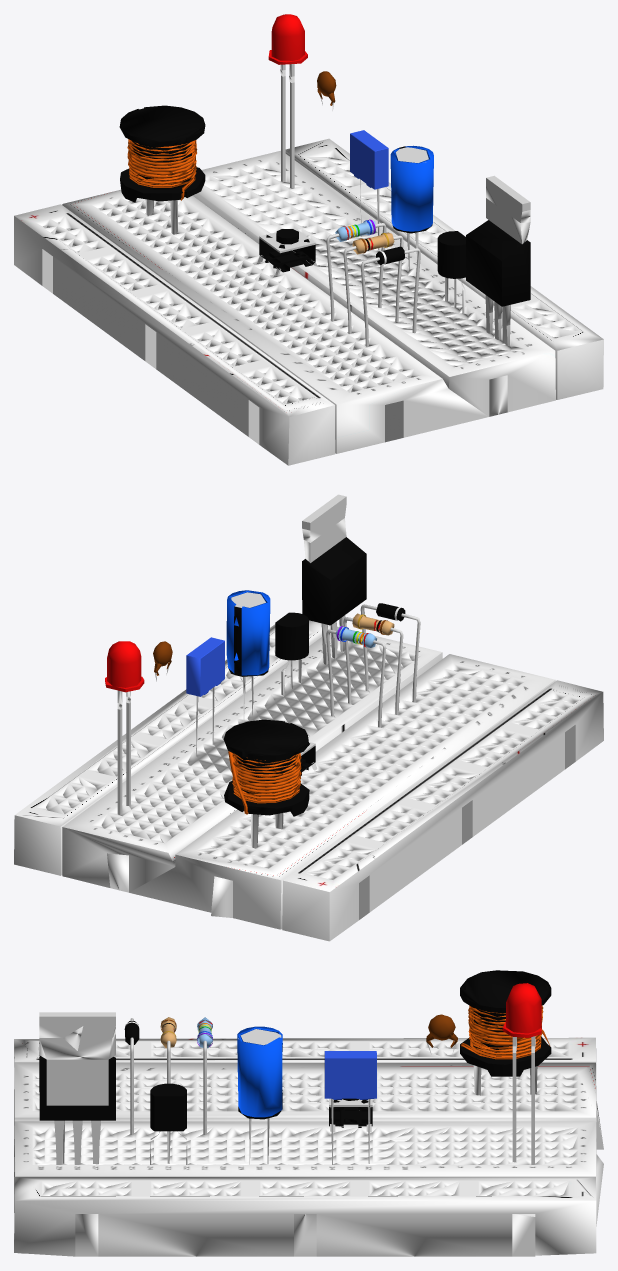
Rendered from td-components_lod2.glb.
The picture shows the model from 3 angles, top to bottom: view 1: azimuth 30°, elevation 25°; view 2: azimuth 150°, elevation 25°; view 3: azimuth 270°, elevation 25°; orthographic projection. The views are drawn at different scales.
Parts seen in each view (by area): view 1: breadboard, inductor, to220, cap_cyl, led, resistor, cap_film, button, to92, diode; view 2: breadboard, inductor, to220, cap_cyl, led, resistor, cap_film, to92, diode; view 3: breadboard, to220, inductor, cap_cyl, led, cap_film, to92, resistor, button, cap_ceramic, diode.
Boxes of the visible parts, x1,y1,x2,y2 form: breadboard: (14, 138, 603, 465); inductor: (119, 105, 205, 234); to220: (466, 175, 530, 346); cap_cyl: (390, 145, 433, 272); led: (268, 14, 307, 188); resistor: (326, 219, 403, 333); cap_film: (350, 130, 388, 250); button: (257, 227, 317, 275); to92: (437, 231, 465, 313); diode: (360, 246, 420, 346); breadboard: (14, 620, 603, 941); inductor: (223, 719, 309, 848); to220: (302, 494, 366, 664); cap_cyl: (226, 590, 270, 721); led: (105, 641, 144, 815); resistor: (326, 613, 403, 727); cap_film: (186, 637, 224, 756); to92: (275, 612, 308, 695); diode: (360, 603, 420, 702); breadboard: (14, 1037, 603, 1256); to220: (39, 1012, 115, 1164); inductor: (460, 970, 551, 1095); cap_cyl: (237, 1026, 282, 1164); led: (502, 983, 541, 1164); cap_film: (324, 1051, 376, 1164); to92: (150, 1083, 187, 1164); resistor: (160, 1017, 212, 1134); button: (329, 1098, 372, 1132); cap_ceramic: (426, 1014, 457, 1054); diode: (124, 1018, 139, 1134).
Bounding box in the file's own units: 0.0542 × 0.0353 × 0.081.
27 materials, 1 textured.
